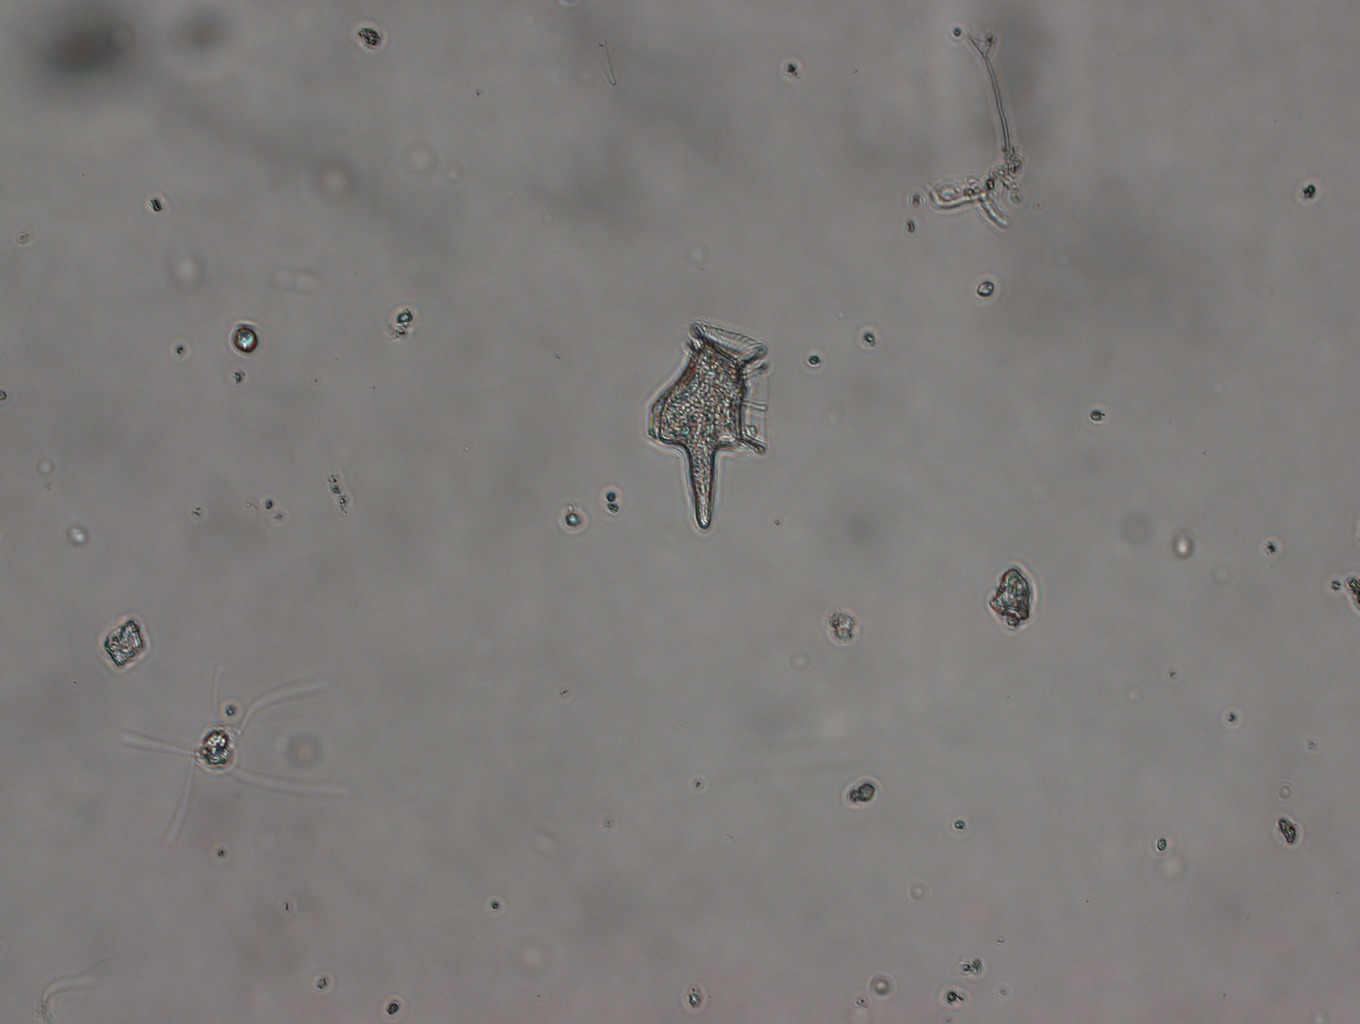dinophysis caudata: (634, 312, 779, 536)
